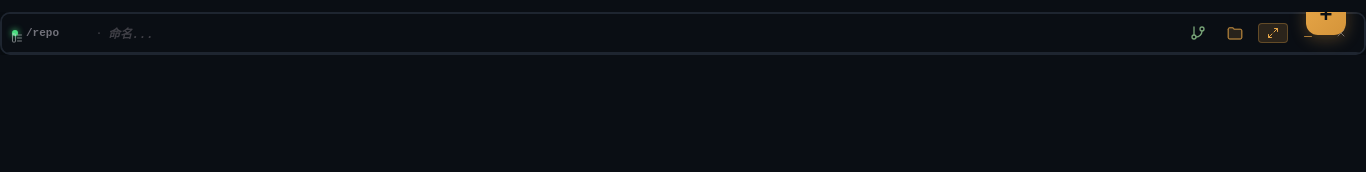
it: M6 批A worktree 浮层 live › isRepo:false → error "Not a git repository"
The image size is (1366, 172).
Click the button with class "tile-worktree-btn" at (1198, 33), box [1184, 21, 1212, 45]
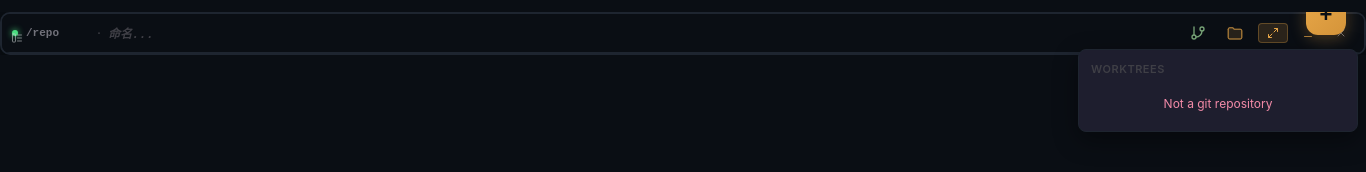
Expected: the text with class "worktree-popover__error" reads "Not a git repository", [1164, 96, 1272, 111]
